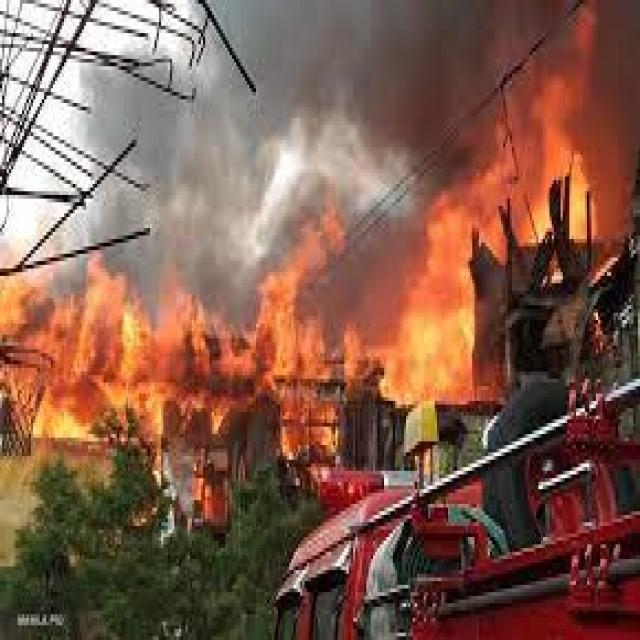Fire: (1, 266, 392, 467), (381, 86, 587, 390)
